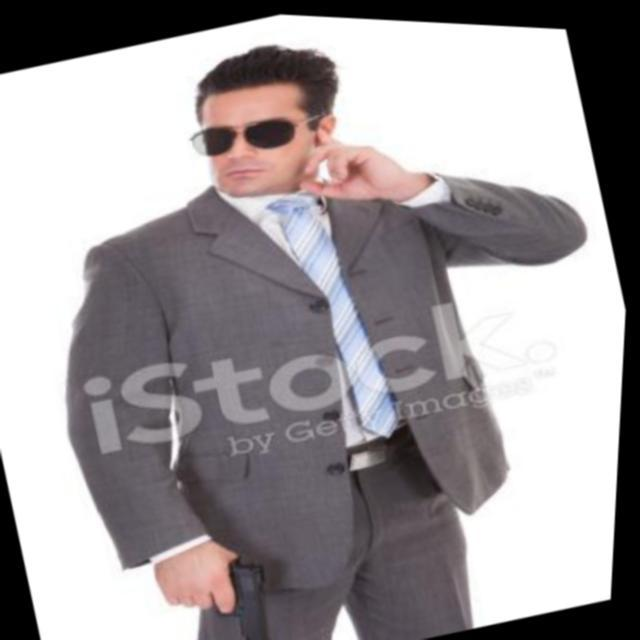weapon: (159, 529, 300, 640)
